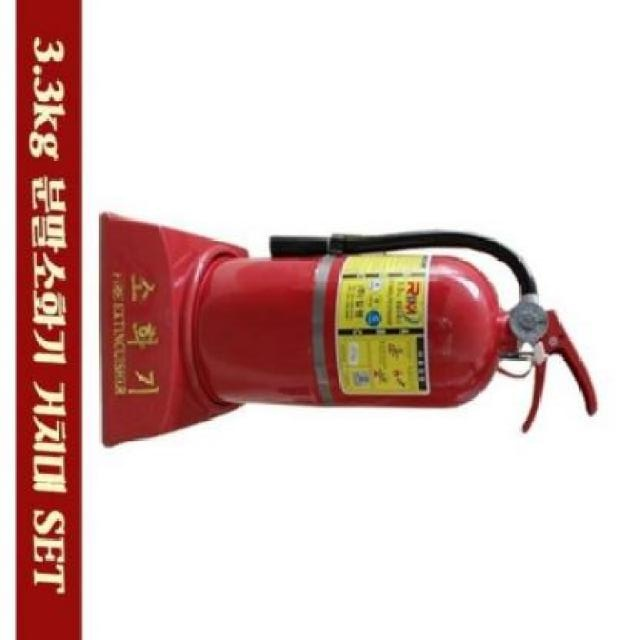fire extinguisher: (195, 229, 599, 435)
